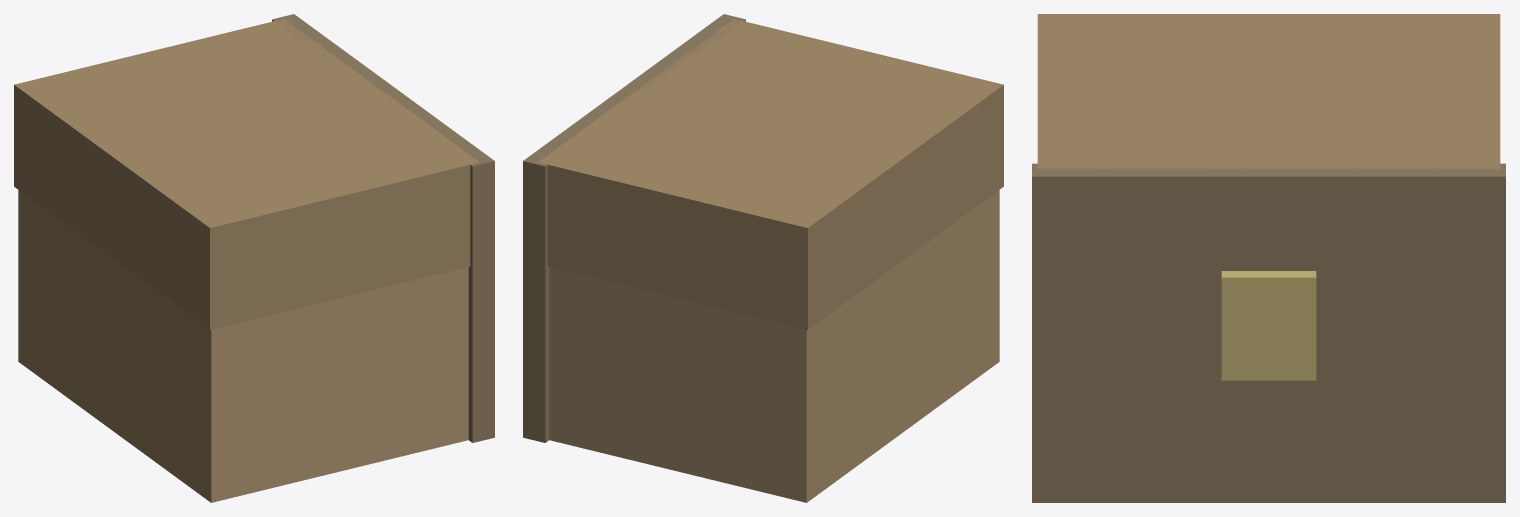
3 renders of one model, left to right at view 1: azimuth 30°, elevation 25°; view 2: azimuth 150°, elevation 25°; view 3: azimuth 270°, elevation 25°, orthographic. The views are drawn at different scales.
Visible parts, largest first — view 1: part1, part0, part2; view 2: part1, part0, part2; view 3: part2, part1, part3.
Boxes of the visible parts, <box> form: part1: <box>14,19,479,329</box>; part0: <box>18,190,468,502</box>; part2: <box>272,14,494,442</box>; part1: <box>538,19,1003,329</box>; part0: <box>549,190,999,502</box>; part2: <box>523,14,745,442</box>; part2: <box>1032,163,1505,502</box>; part1: <box>1037,14,1500,169</box>; part3: <box>1221,271,1316,380</box>.
Size of the model in its own units: 2.11 by 1.9 by 2.5.
